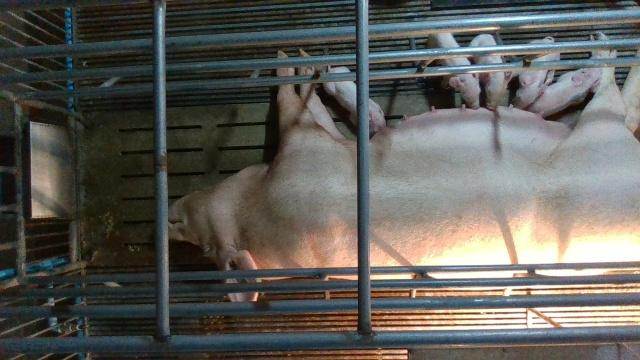piglet: (525, 55, 604, 120), (322, 65, 388, 133), (425, 33, 482, 111), (469, 34, 514, 110), (513, 35, 557, 112)
sow-sleep-lactate: (169, 35, 640, 302)
